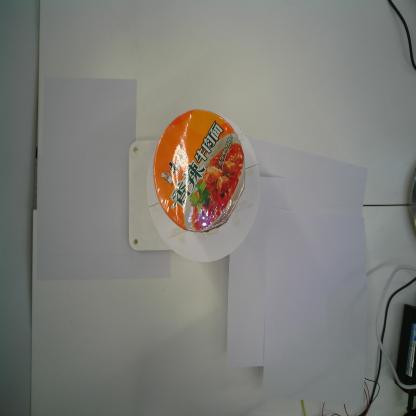Instant Noodles: (152, 108, 246, 233)
